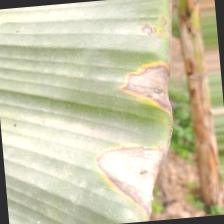cordana: (0, 0, 192, 224)
